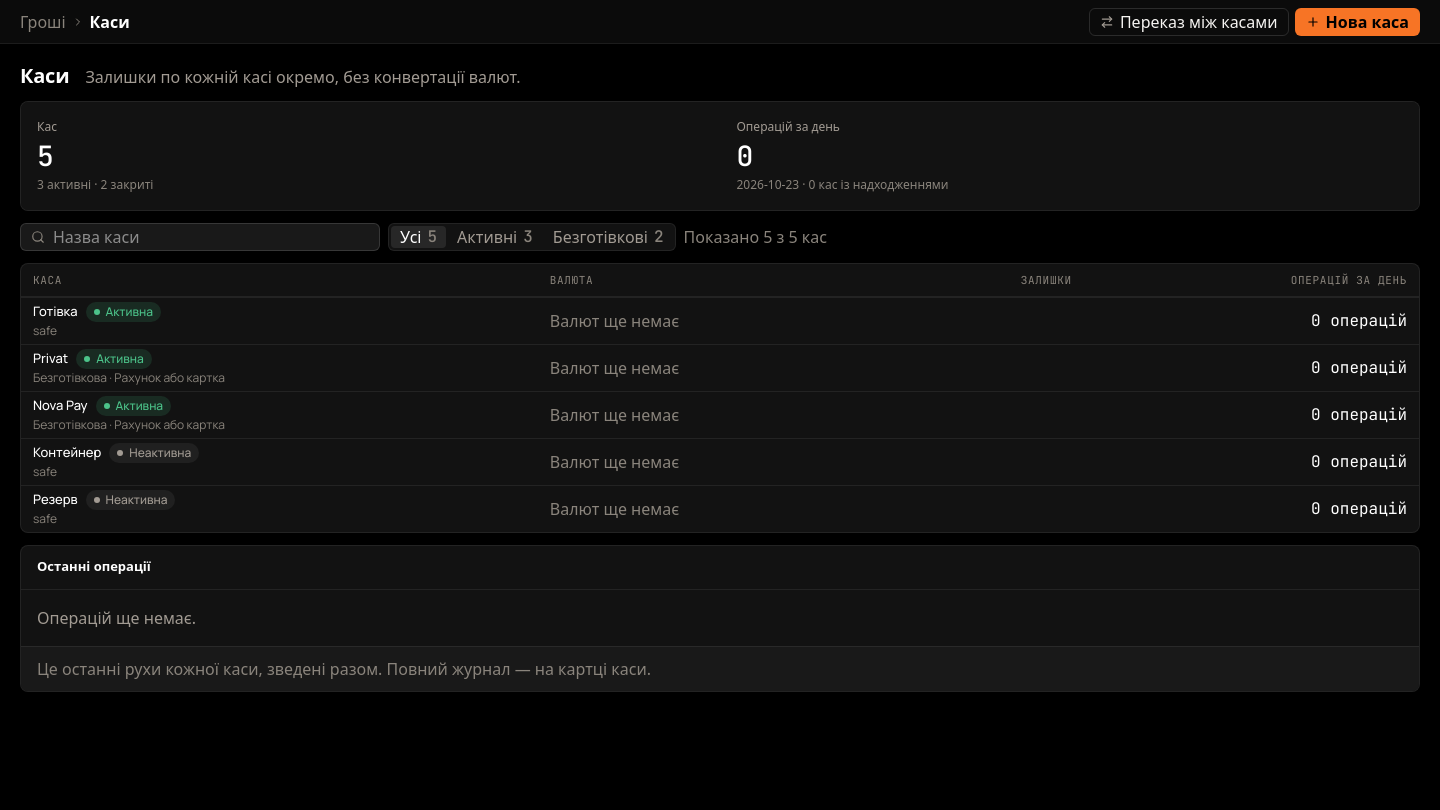
Test case: counts all, active, and cashless registers without dropping safe registers
Expected: the link "Готівка" is shown, [33,302,78,321]
Expected: the button "Усі 5" is shown, [391,226,446,248]
Click the button "Активні 3" at (495, 237), box [448,226,542,248]
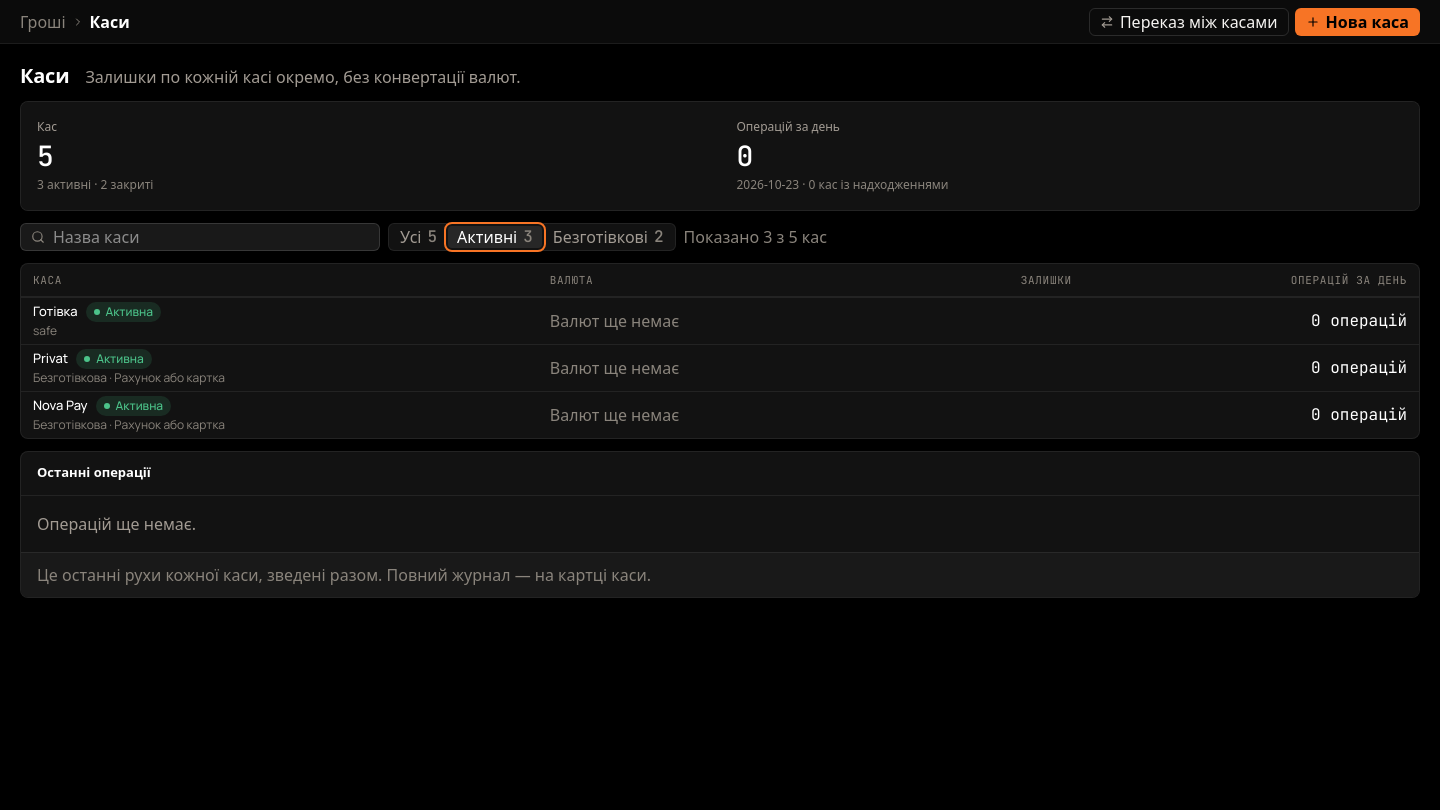
Now the text "Показано 3 з 5 кас" is shown, box [684,225,827,249]
Now the link "Контейнер" is gone
